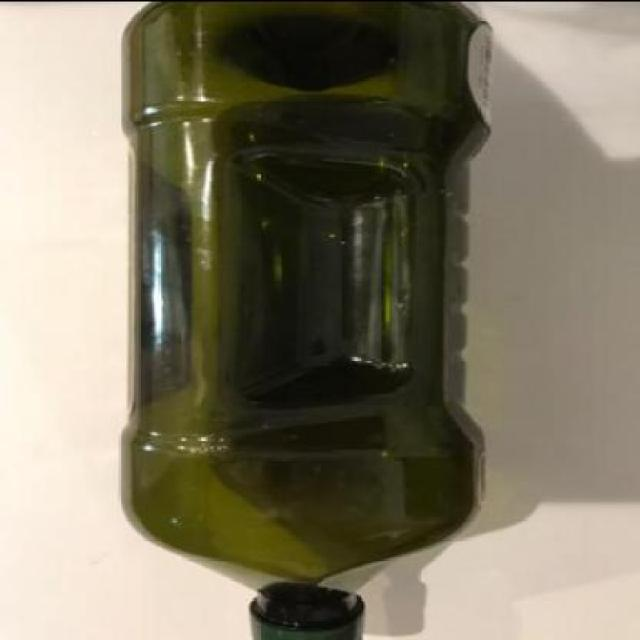METAL: (249, 594, 369, 638)
PLASTIC: (123, 1, 500, 638)
